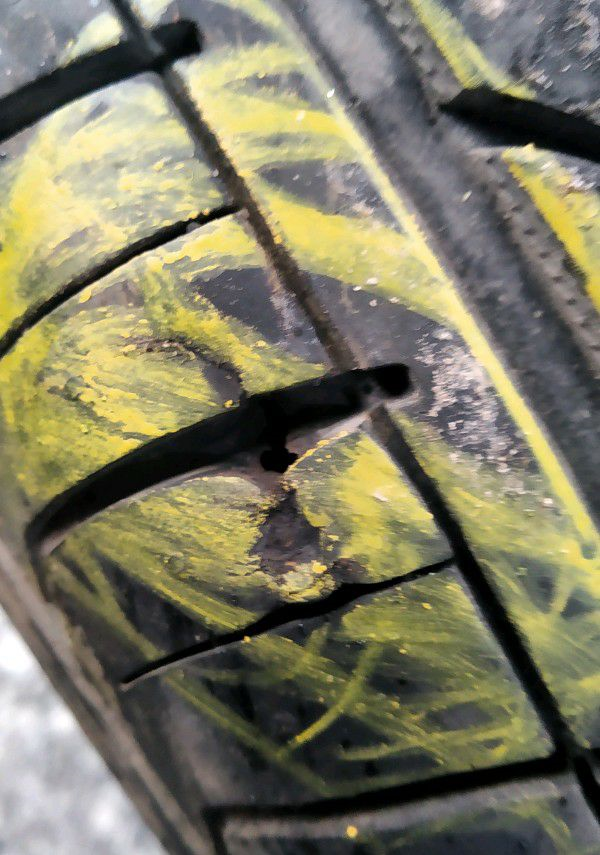tr: (22, 361, 419, 582)
